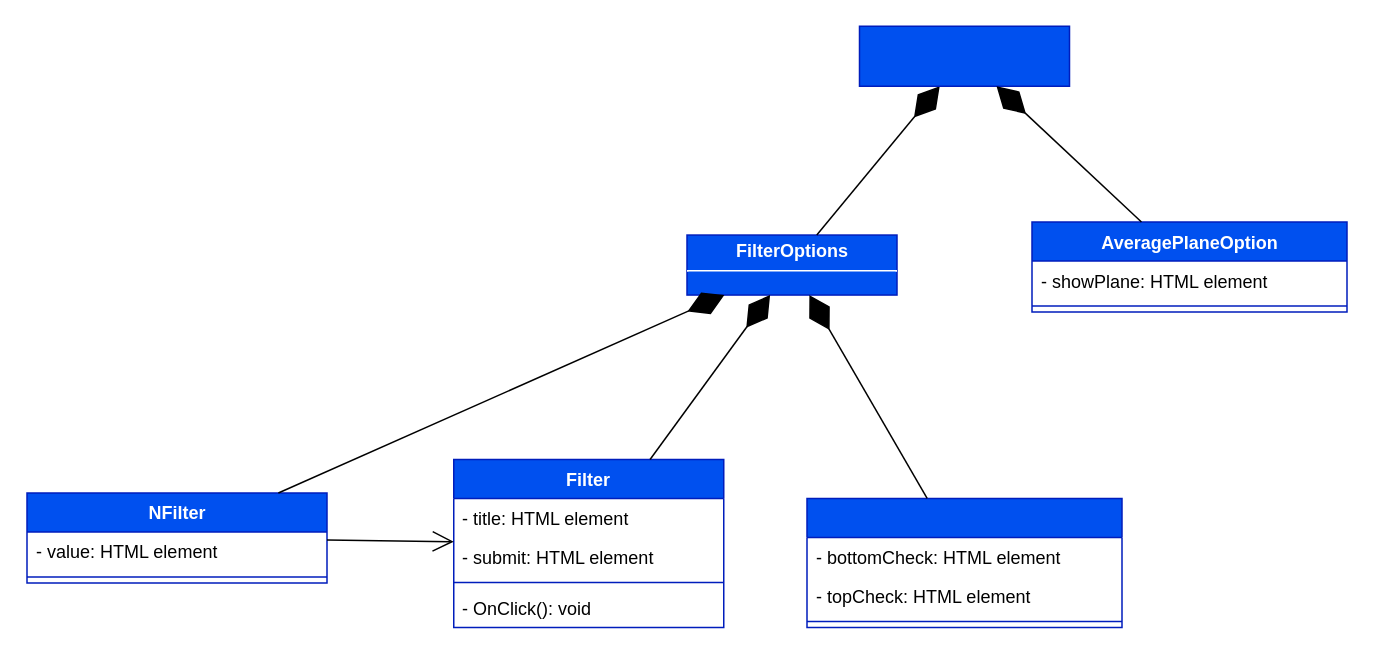
This 1373x659 diagram has some shape labels left out. The shapes that lost their labels are listed below. From the top down, each one's box as (x1, y1, x2, y2) in pixels, then its label:
(858, 25, 1070, 86): Options
(806, 497, 1122, 627): FilterModOption
